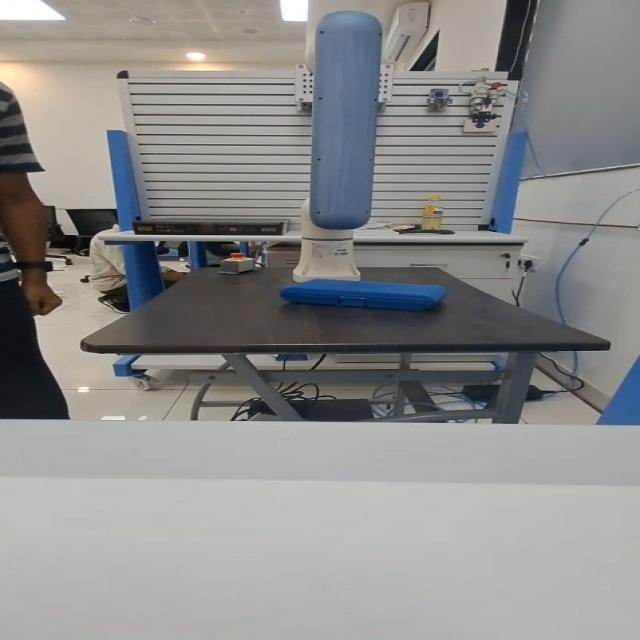top-surface: (308, 280, 427, 294)
